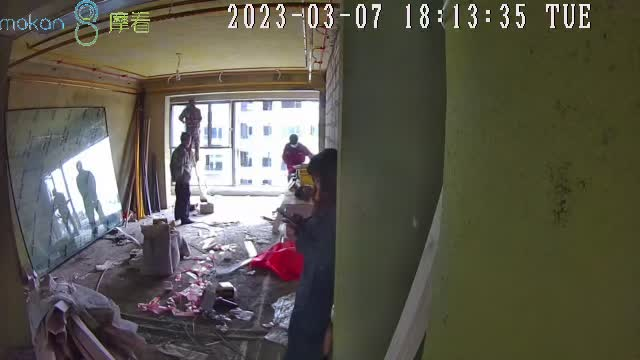people: (282, 148, 336, 360), (171, 132, 195, 225), (281, 135, 313, 184), (179, 99, 201, 159)
window: (169, 96, 319, 195)
